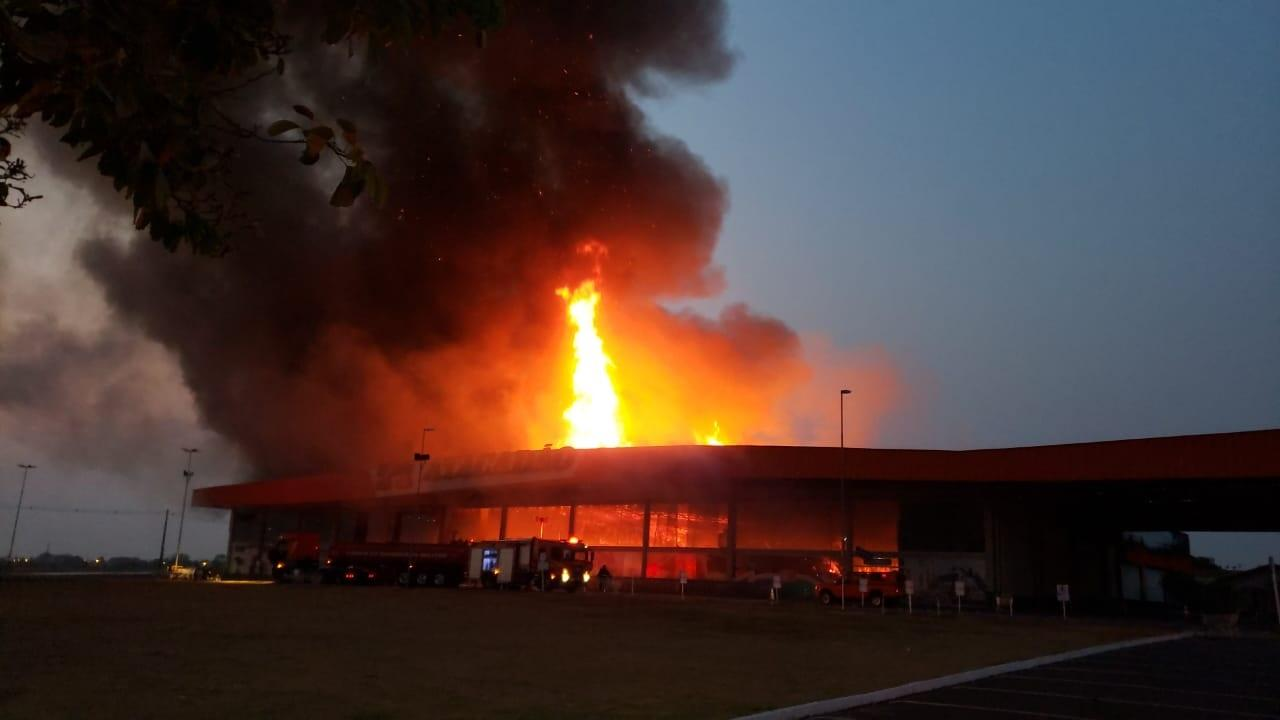fire: (558, 316, 624, 452)
